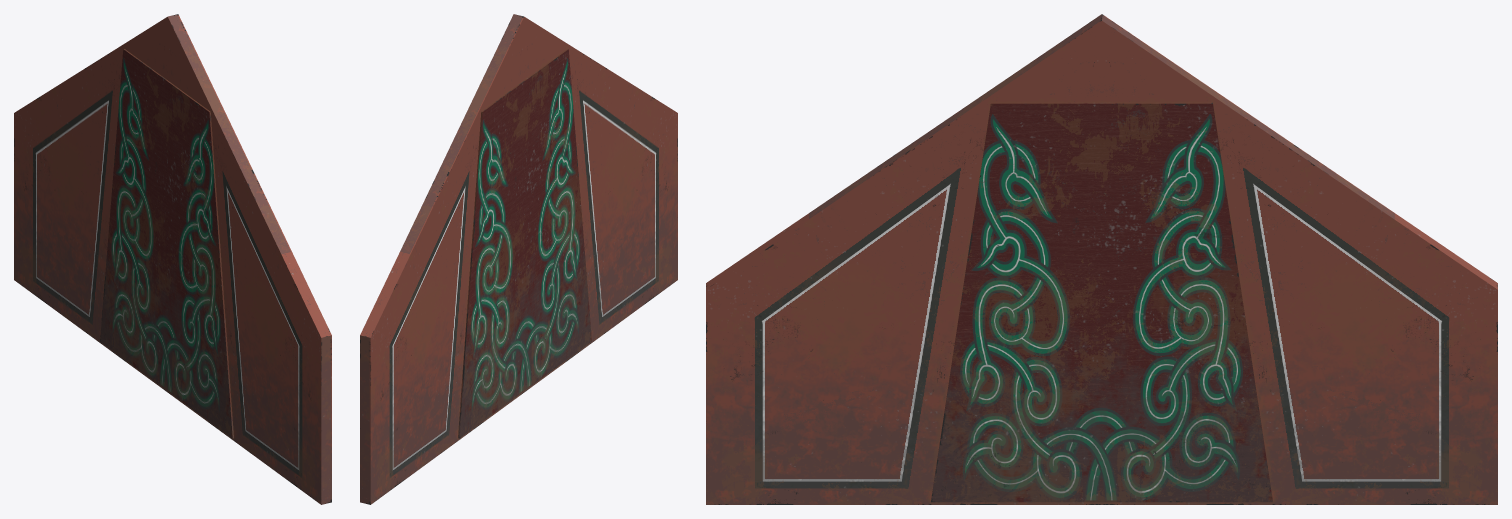
The model's file is SM_Daegong01d.fbx.
The picture shows the model from 3 angles, left to right: view 1: azimuth 30°, elevation 25°; view 2: azimuth 150°, elevation 25°; view 3: azimuth 270°, elevation 25°; orthographic projection. The views are drawn at different scales.
Visible parts, largest first — view 1: SM_Daegong01d; view 2: SM_Daegong01d; view 3: SM_Daegong01d.
Boxes of the visible parts, <box> form: SM_Daegong01d: <box>14,14,331,504</box>; SM_Daegong01d: <box>360,14,677,504</box>; SM_Daegong01d: <box>706,14,1497,504</box>.
Size of the model in its own units: 5 by 200 by 135.
1 material, 1 textured.
